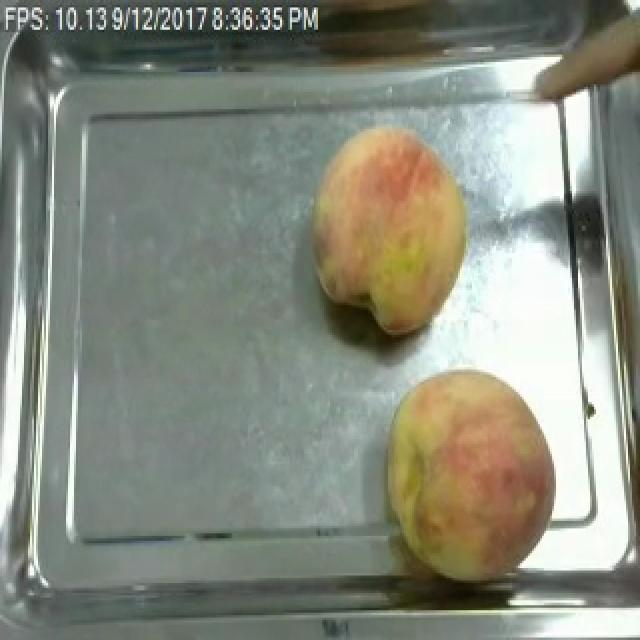Fruit: (372, 362, 570, 590), (300, 114, 480, 342)
